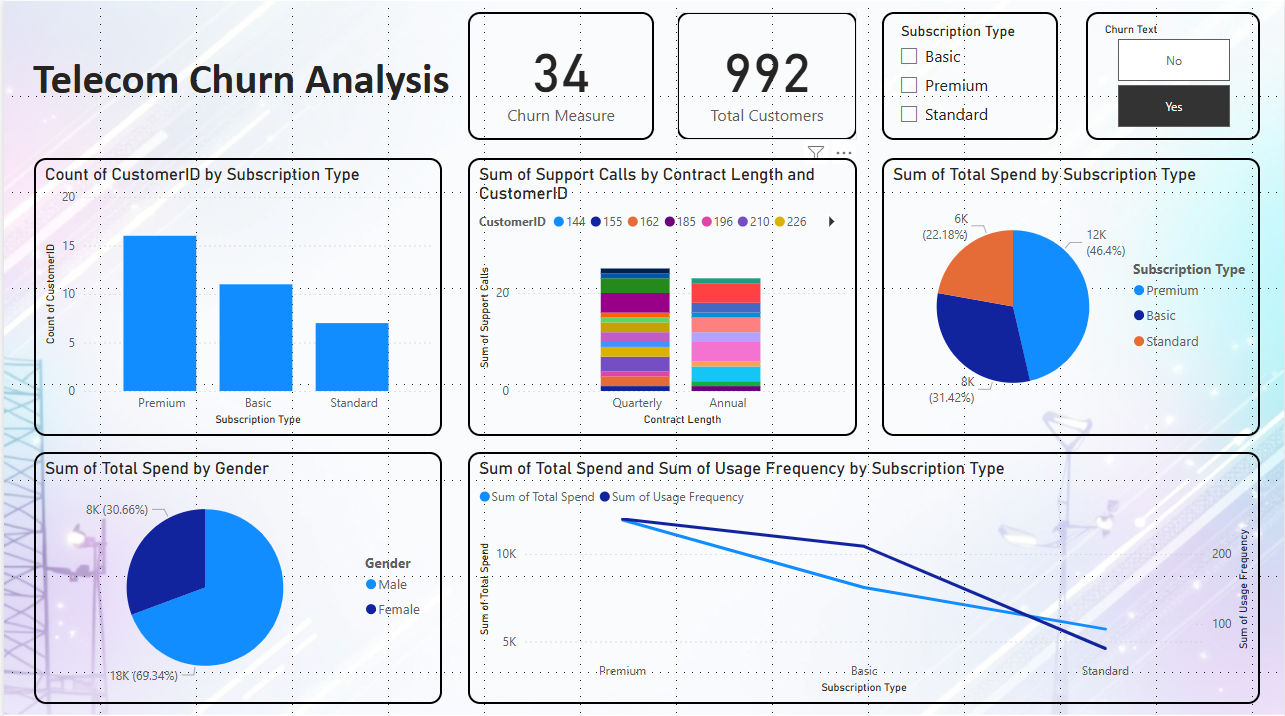

The page's visual inventory and layout, read from the dashboard file:
{"tool":"powerbi","page":{"name":"Page 2","canvas":[1280,720],"ordinal":1},"visuals":[{"type":"textbox","box":[9,44,449,81],"z":0},{"type":"card","fields":{"Values":["Sheet1.Measure"]},"box":[464,12,186,128],"z":1000},{"type":"card","fields":{"Values":["CountNonNull(Sheet1.CustomerID)"]},"box":[673,12,180,128],"z":2000},{"type":"slicer","fields":{"Values":["Sheet1.Subscription Type"]},"box":[878,12,176,128],"z":3000},{"type":"slicer","fields":{"Values":["Sheet1.Churn Text"]},"box":[1082,12,174,128],"z":4000},{"type":"columnChart","fields":{"Category":["Sheet1.Subscription Type"],"Y":["CountNonNull(Sheet1.CustomerID)"]},"box":[29.7,158.4,408.7,278.1],"z":4001},{"type":"pieChart","fields":{"Category":["Sheet1.Gender"],"Y":["Sum(Sheet1.Total Spend)"]},"box":[29.7,452.3,408.7,251.4],"z":4002},{"type":"columnChart","fields":{"Category":["Sheet1.Contract Length"],"Y":["Sum(Sheet1.Support Calls)"],"Series":["Sheet1.CustomerID"]},"box":[464,158,389,278],"z":4003},{"type":"pieChart","fields":{"Category":["Sheet1.Subscription Type"],"Y":["Sum(Sheet1.Total Spend)"]},"box":[878,158,378,278],"z":4004},{"type":"lineChart","fields":{"Category":["Sheet1.Subscription Type"],"Y":["Sum(Sheet1.Total Spend)"],"Y2":["Sum(Sheet1.Usage Frequency)"]},"box":[464.2,452.3,791.8,251.4],"z":4005}]}

Visuals, with their boxes in screenshot pixels (x1, y1, x2, y2), scaled from the page's 1280x720 canvas onto the 1285x716 screenshot:
textbox: x1=9 y1=44 x2=460 y2=124
card - Sheet1.Measure: x1=466 y1=12 x2=653 y2=139
card - CountNonNull(Sheet1.CustomerID): x1=676 y1=12 x2=856 y2=139
slicer - Sheet1.Subscription Type: x1=881 y1=12 x2=1058 y2=139
slicer - Sheet1.Churn Text: x1=1086 y1=12 x2=1261 y2=139
columnChart - Sheet1.Subscription Type x CountNonNull(Sheet1.CustomerID): x1=30 y1=158 x2=440 y2=434
pieChart - Sheet1.Gender x Sum(Sheet1.Total Spend): x1=30 y1=450 x2=440 y2=700
columnChart - Sheet1.Contract Length x Sum(Sheet1.Support Calls): x1=466 y1=157 x2=856 y2=434
pieChart - Sheet1.Subscription Type x Sum(Sheet1.Total Spend): x1=881 y1=157 x2=1261 y2=434
lineChart - Sheet1.Subscription Type x Sum(Sheet1.Total Spend): x1=466 y1=450 x2=1261 y2=700
